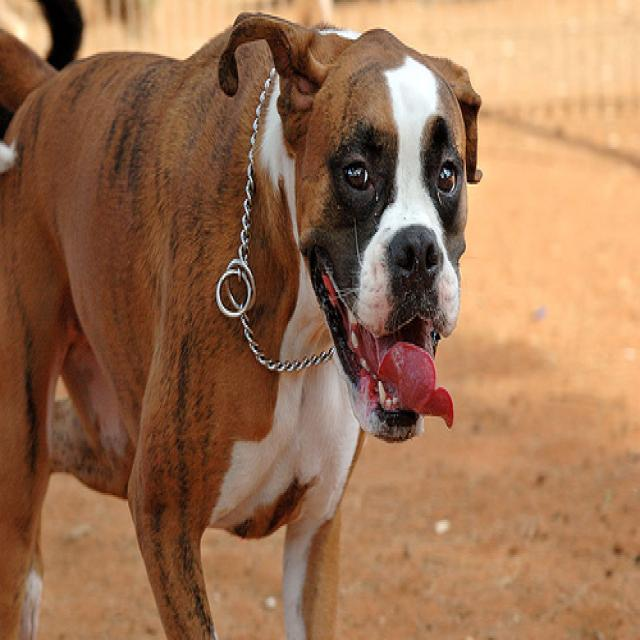dog-boxer: (1, 4, 489, 636)
